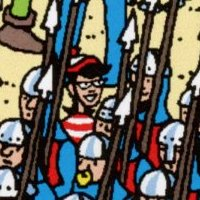wenda: (70, 50, 103, 112)
